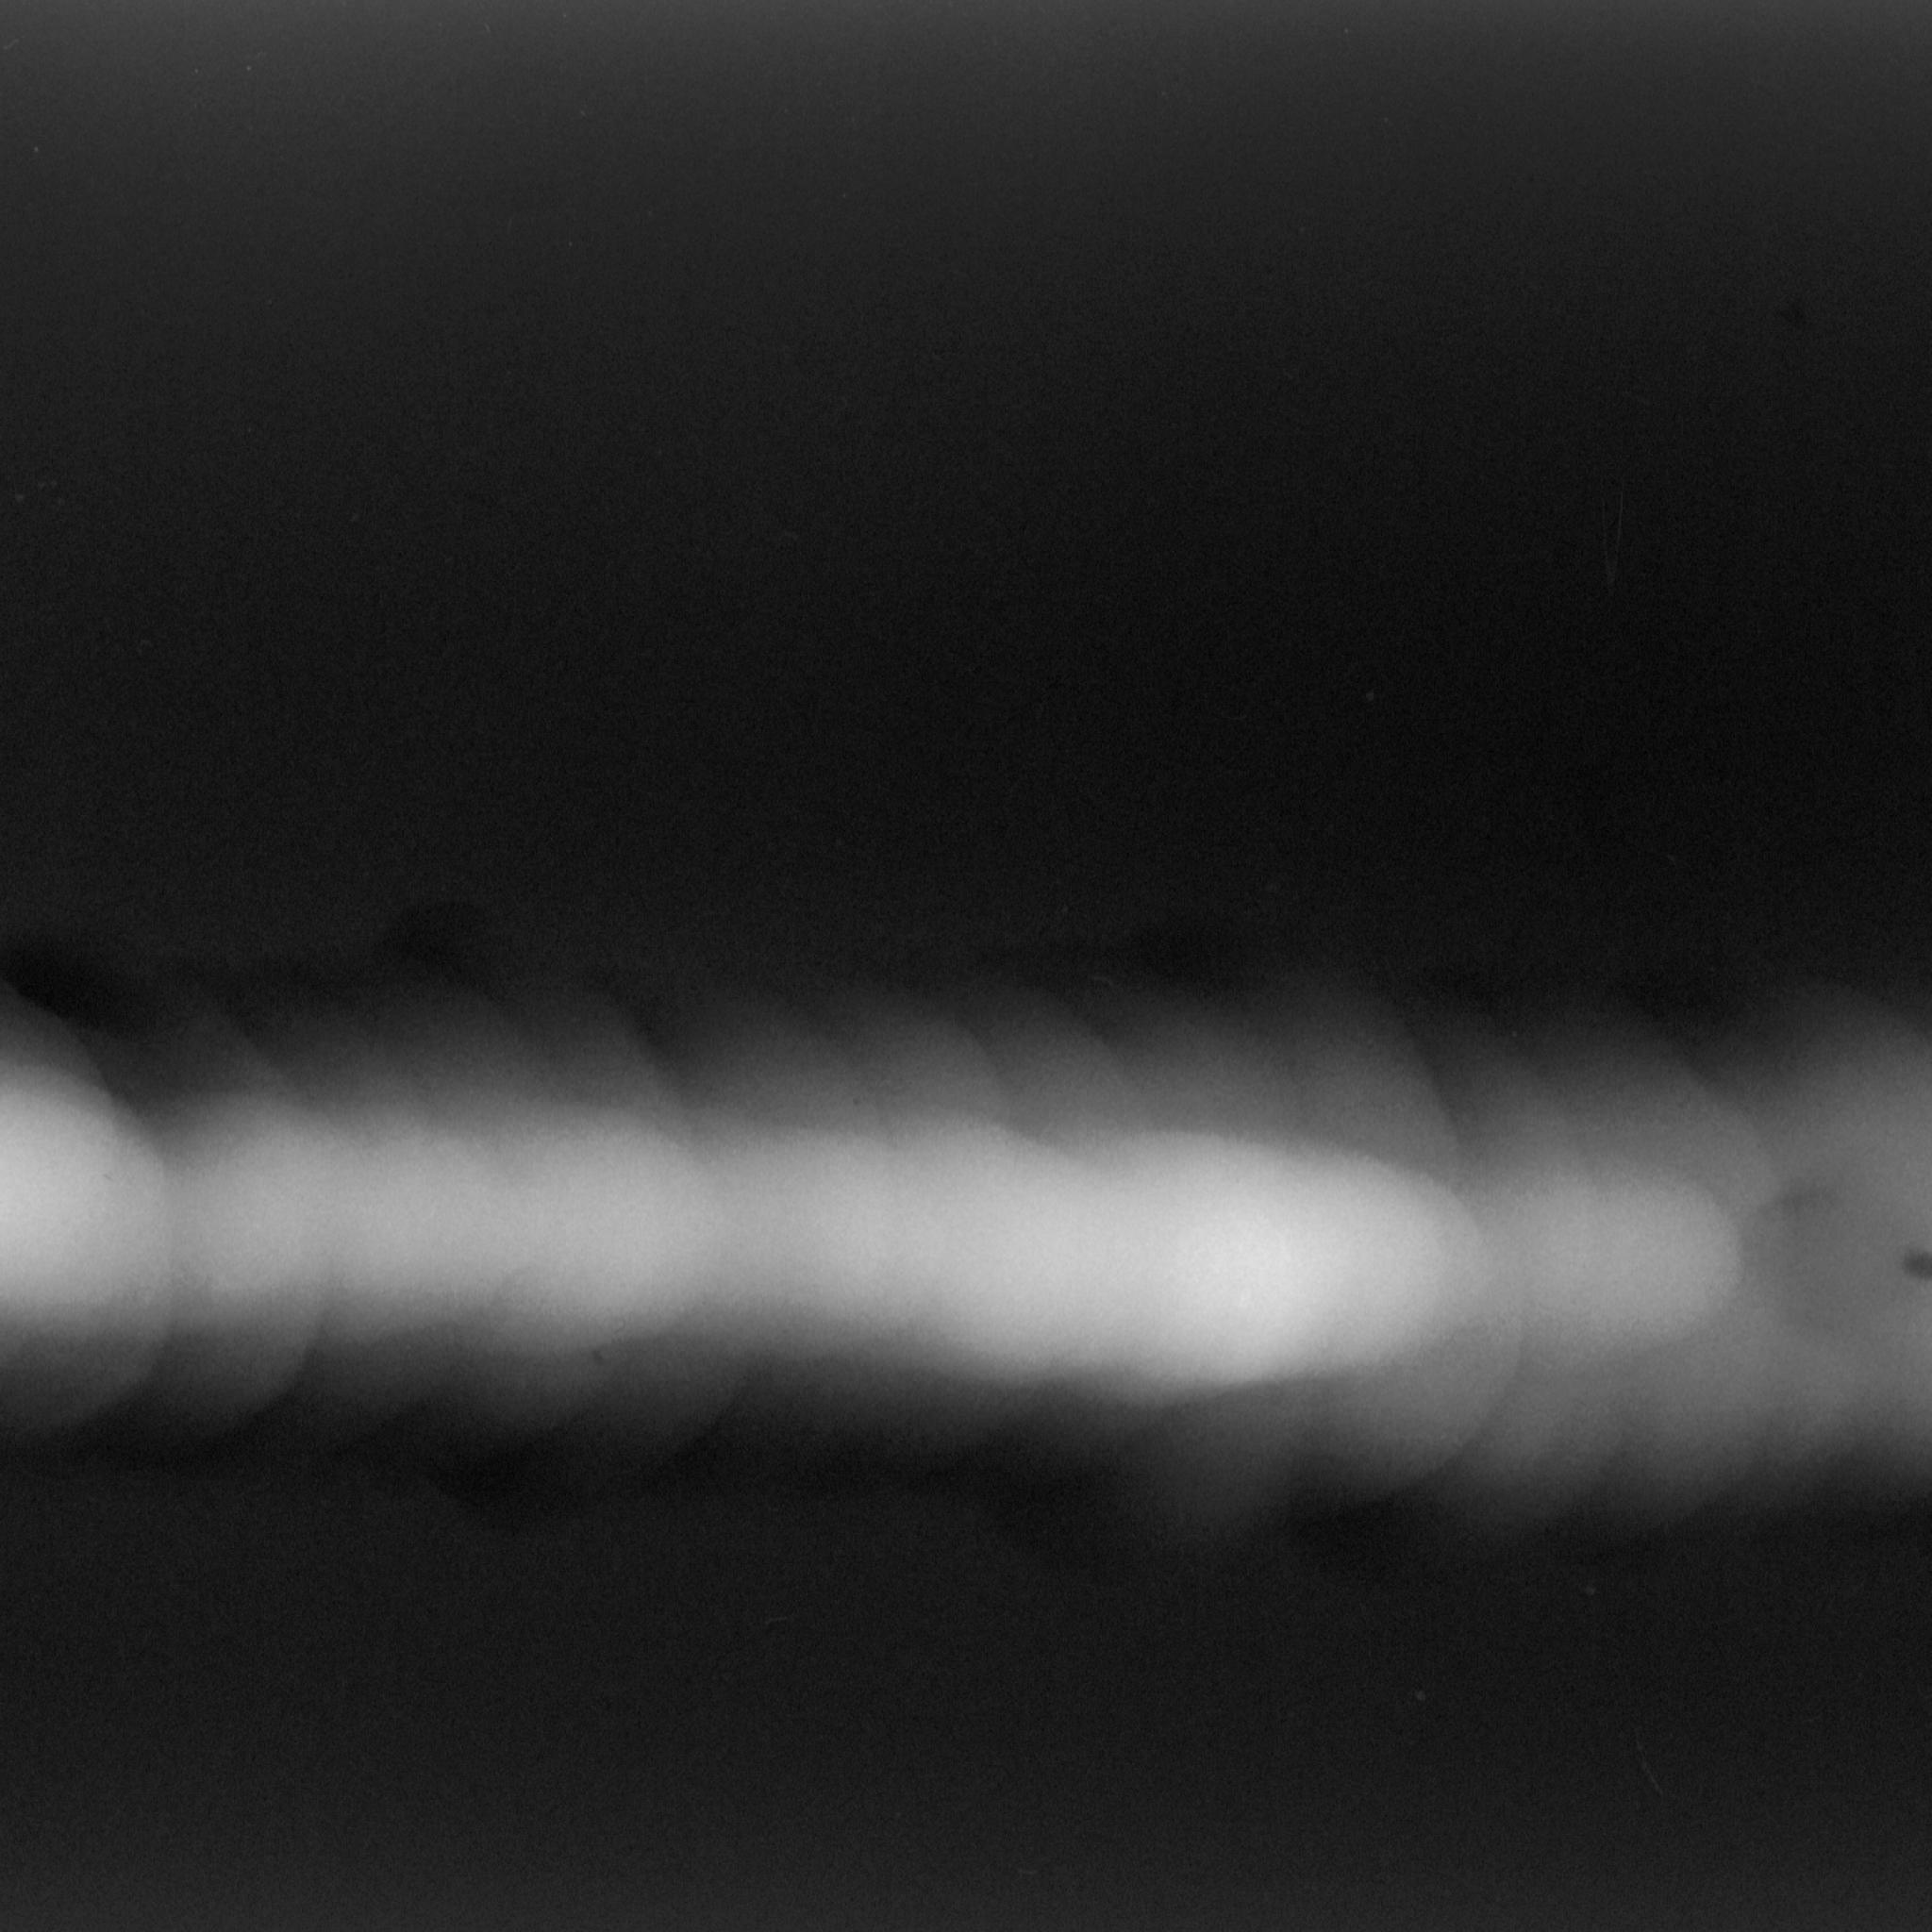PO: (1893, 1238, 1932, 1293), (586, 1339, 607, 1369), (99, 1164, 120, 1189), (1752, 1136, 1766, 1155), (849, 1092, 865, 1108), (476, 1272, 488, 1286)
